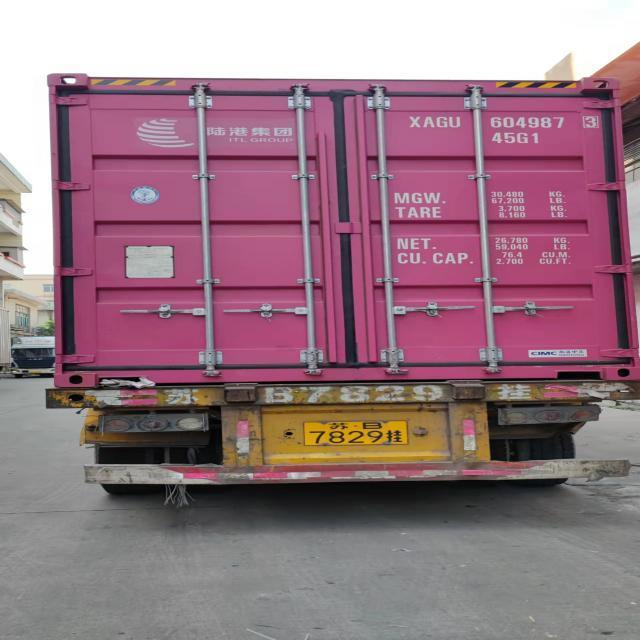ISO: (486, 132, 544, 150)
container_number: (403, 108, 602, 130)
